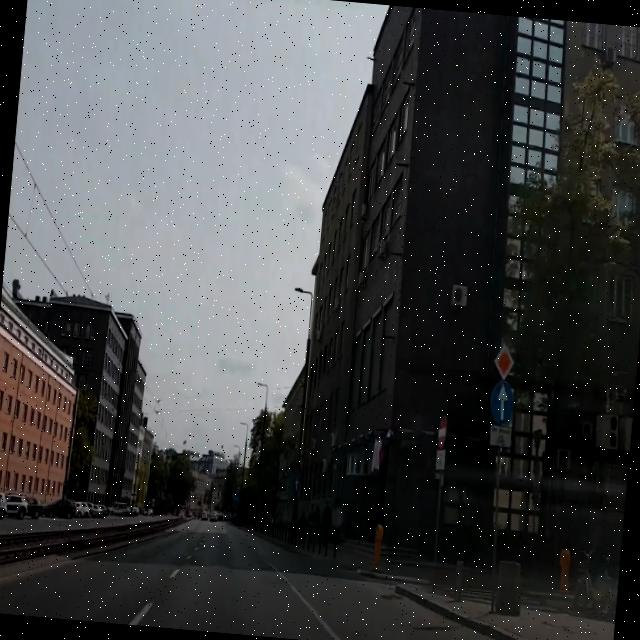Droga z pierwszenstwem: (491, 342, 516, 379)
Zakaz wjazdu: (436, 414, 447, 448)
